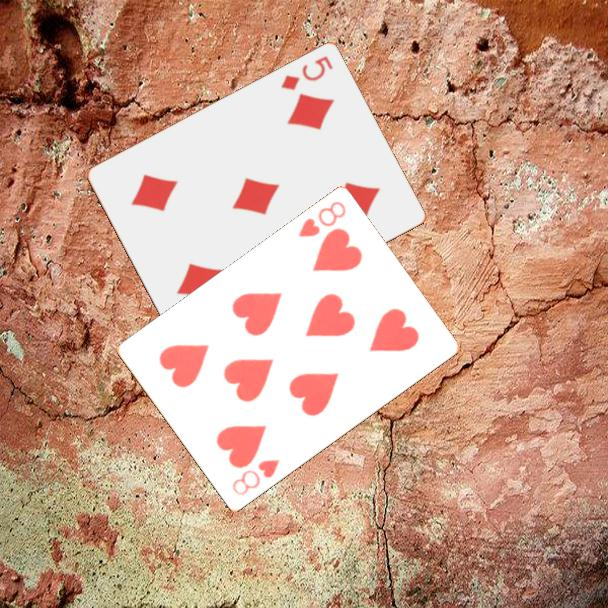d05: (277, 53, 336, 94)
h08: (228, 456, 282, 499), (295, 198, 349, 241)
